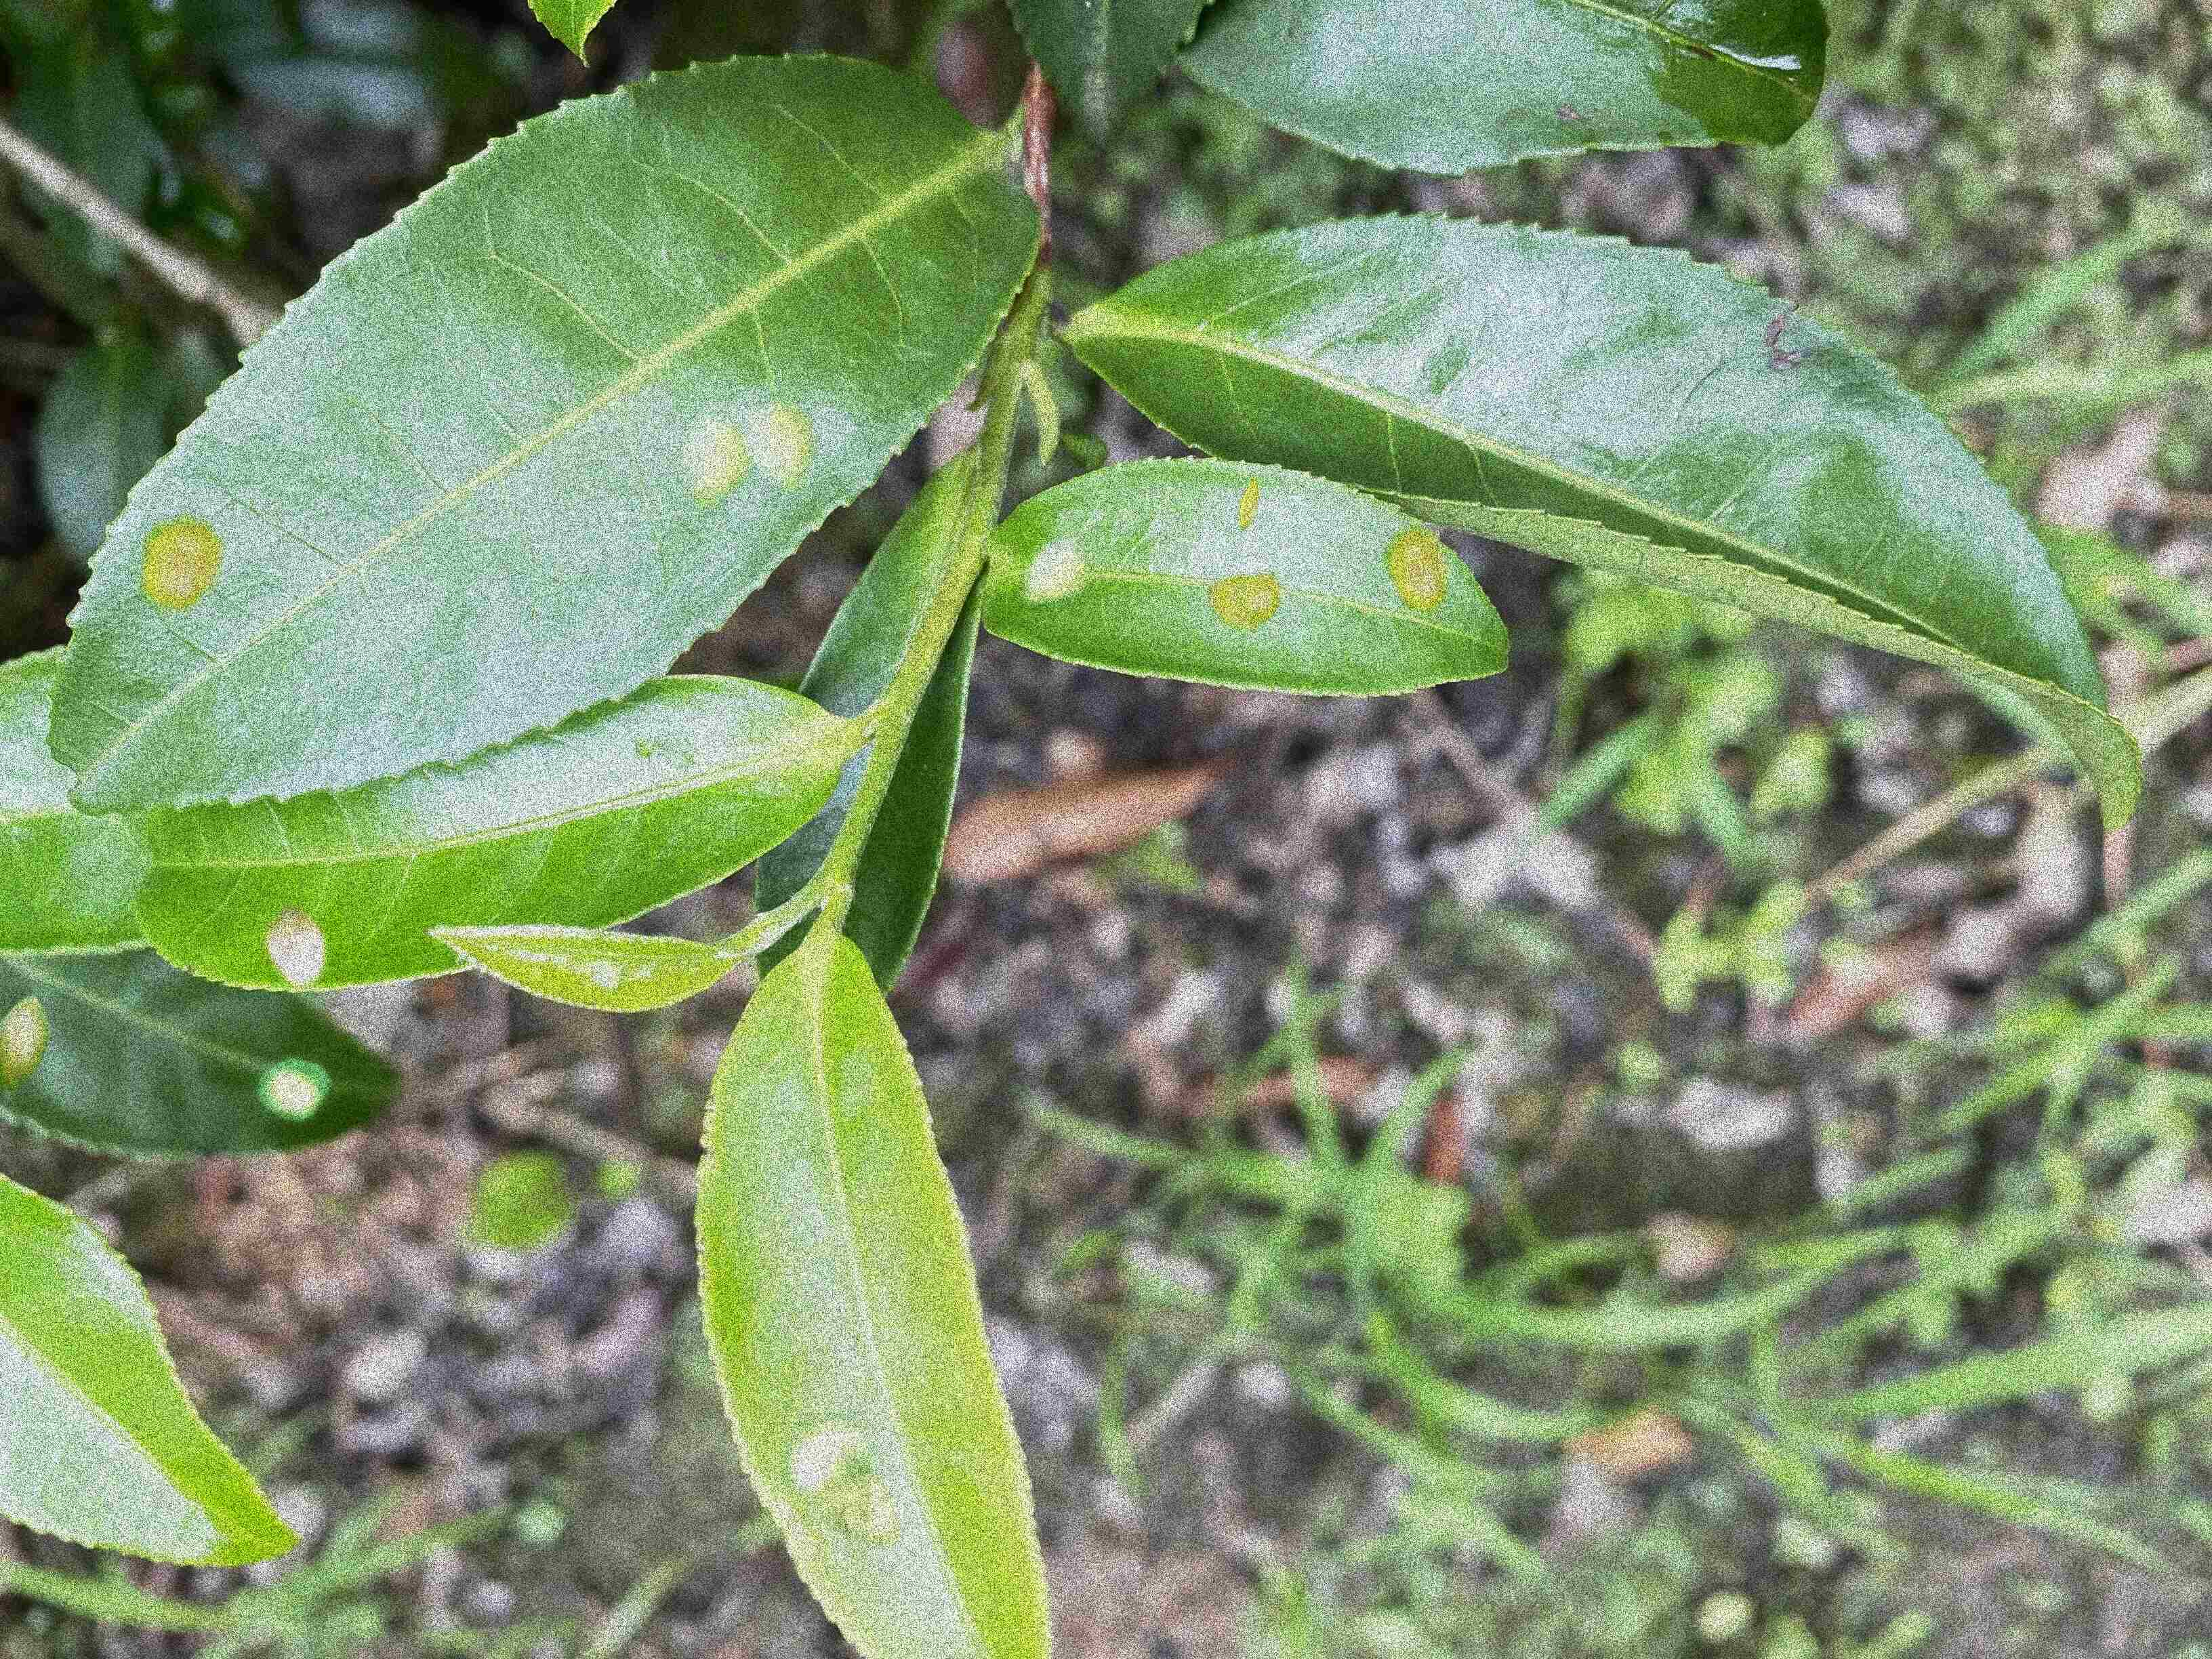chabing_high: (44, 49, 1042, 821), (984, 455, 1510, 695), (3, 953, 411, 1159)
chabing_low: (129, 671, 846, 993)
healthy: (0, 1168, 303, 1567), (430, 918, 745, 1016)
tanju_low: (1066, 207, 2144, 831)
